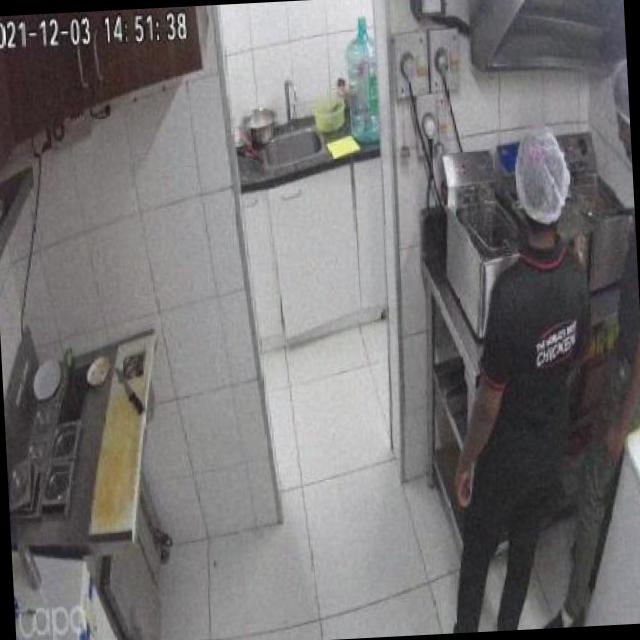hairnet: (516, 128, 571, 220), (609, 62, 630, 128)
